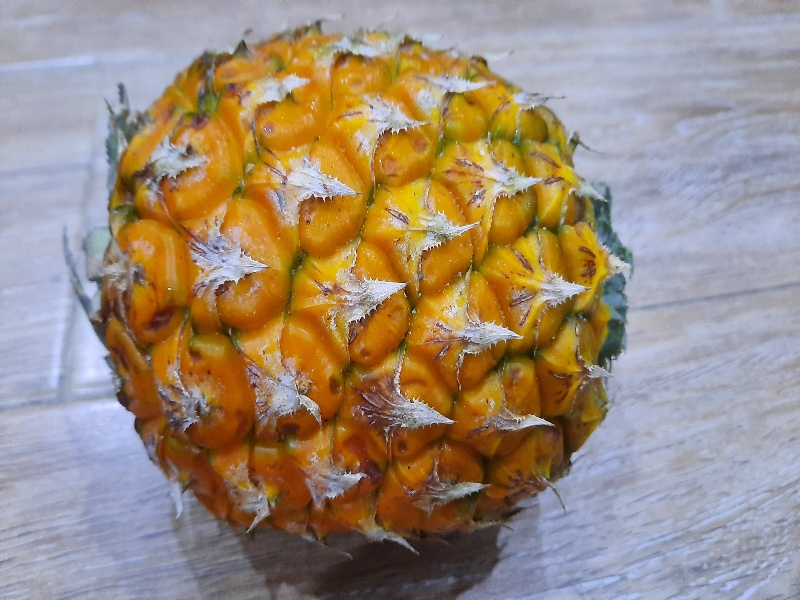fruit: (88, 23, 631, 538)
